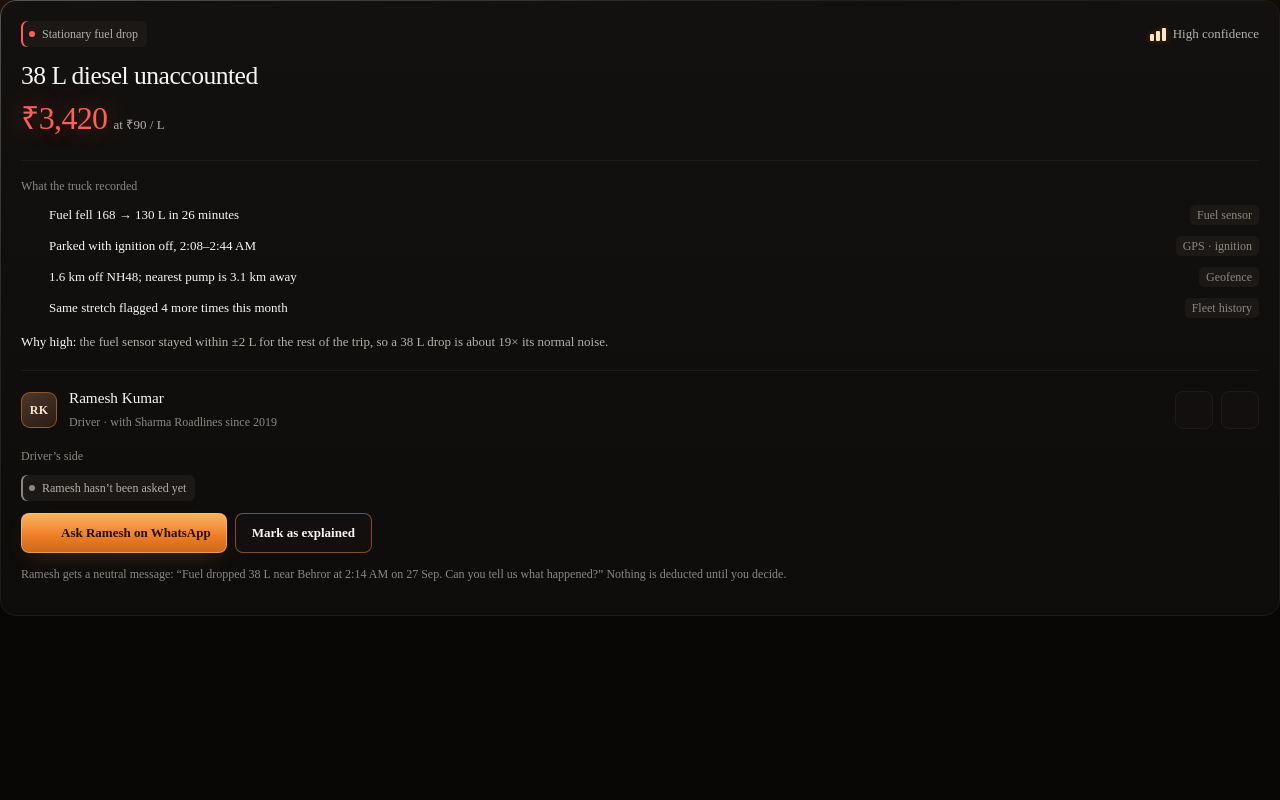
Test: FlagCard + DriverSide (0926-04, R1) › 'Ask Ramesh on WhatsApp' changes local state, shows the honest note and sends nothing
This screenshot has width=1280, height=800.
Click the button "Ask Ramesh on WhatsApp": (124, 532) [21, 512, 227, 552]
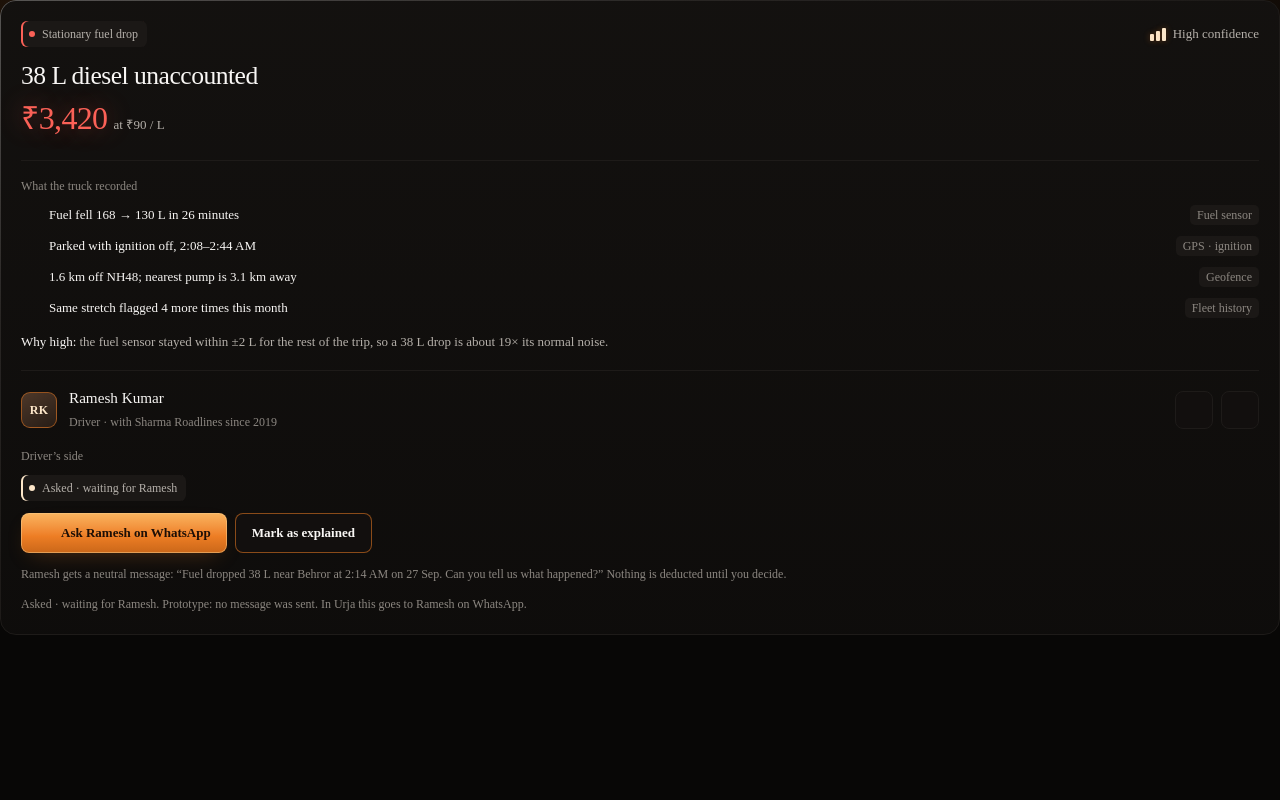
Expected: the message shows "Asked · waiting for Ramesh. Prototype: no message was sent. In Urja this goes to Ramesh on WhatsApp.", [21, 597, 527, 611]
Click the button "Mark as explained": (303, 532) [235, 512, 372, 552]
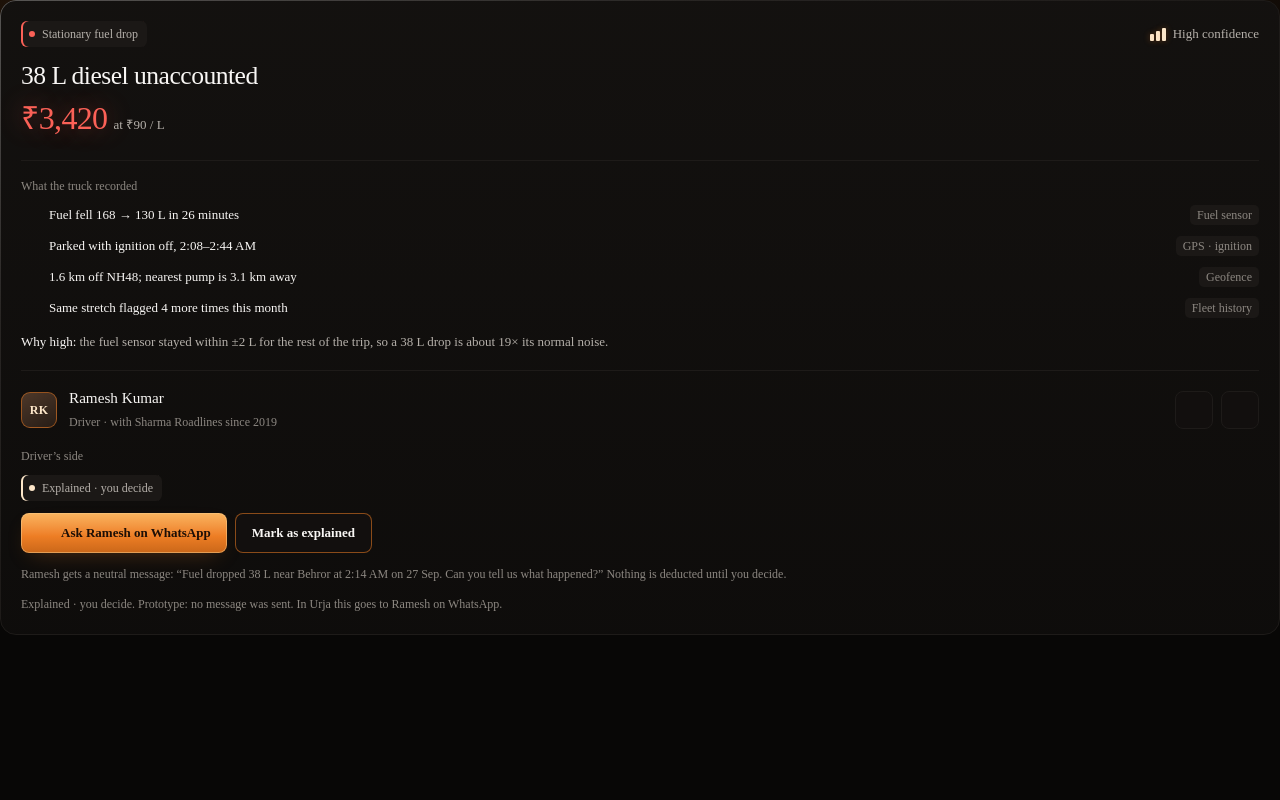
Expected: the text "Explained · you decide" is shown, [21, 474, 162, 500]
Expected: the message shows "Explained · you decide. Prototype: no message was sent. In Urja this goes to Ramesh on WhatsApp.", [21, 597, 502, 611]
